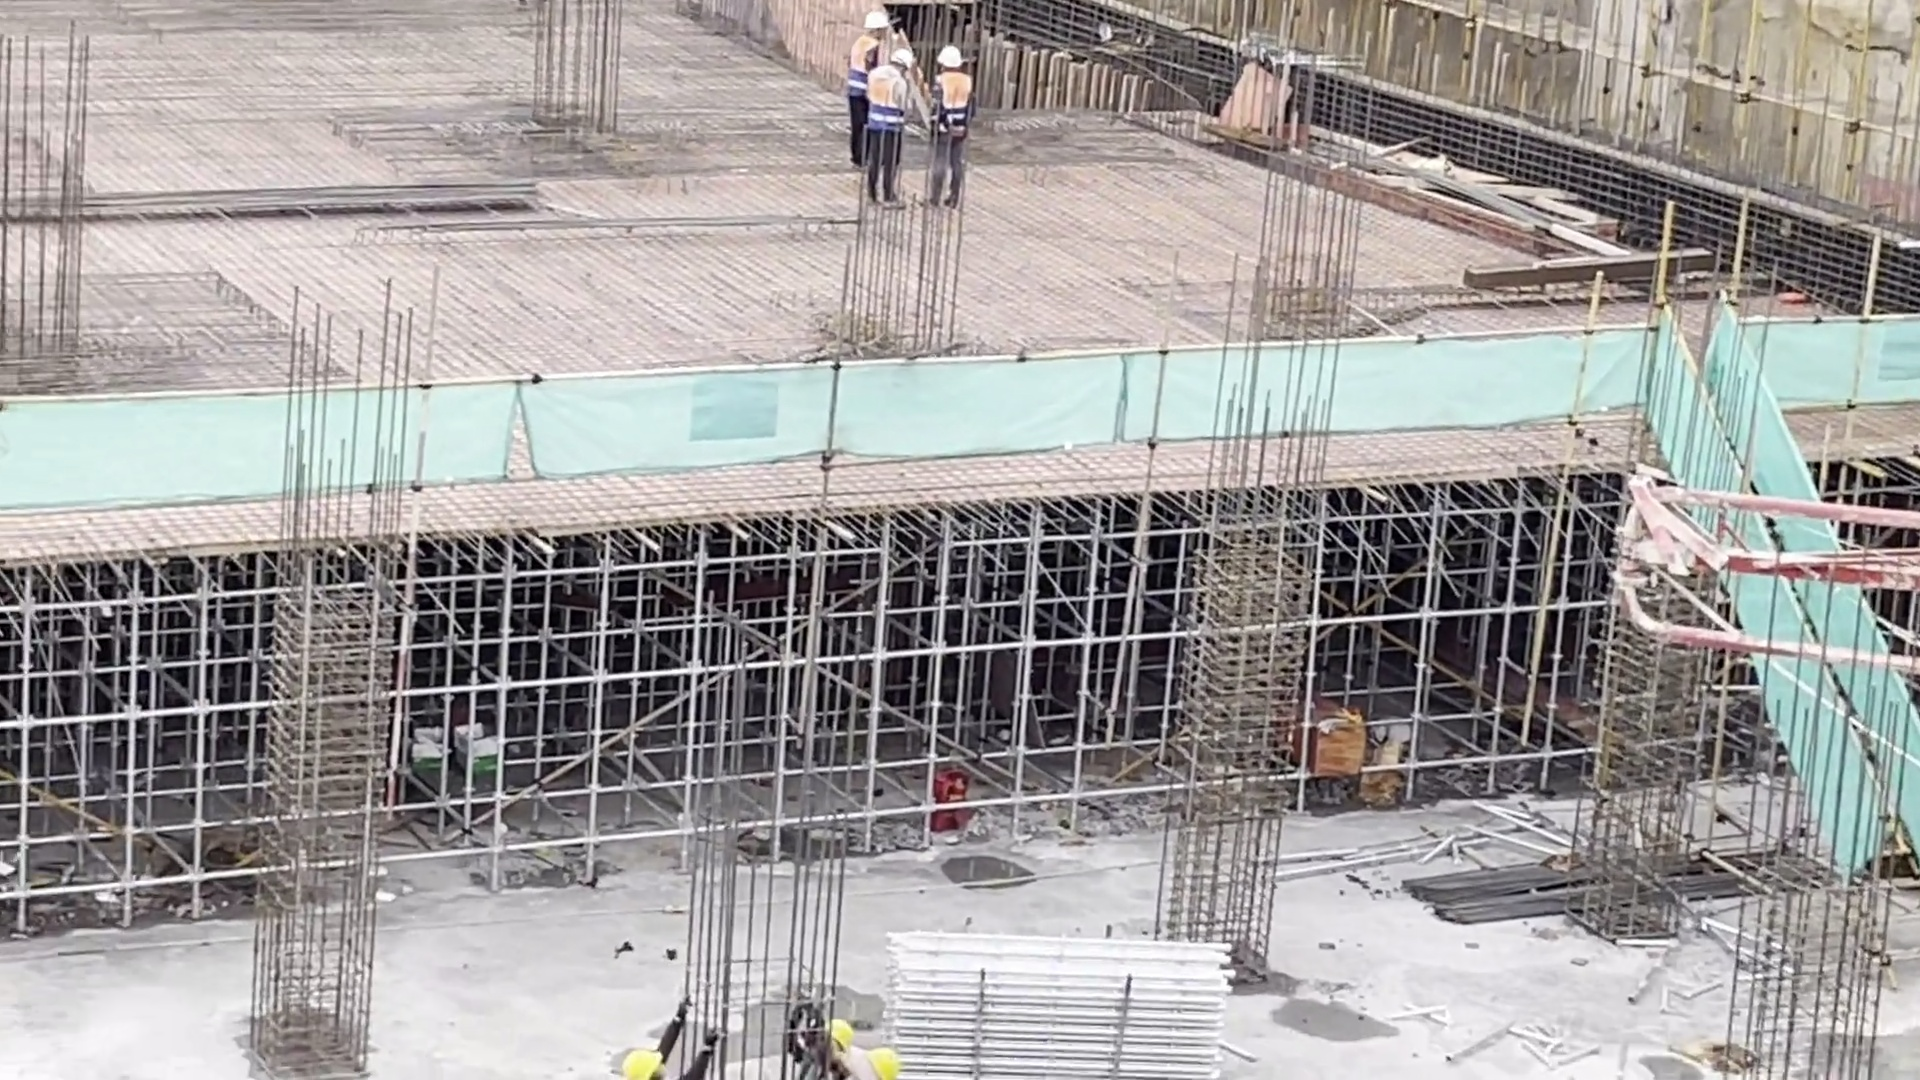helmet: (888, 50, 915, 70), (937, 45, 960, 68), (862, 13, 887, 30)
person: (863, 49, 915, 208), (606, 1005, 711, 1080), (928, 35, 970, 211), (840, 12, 888, 146), (784, 1008, 851, 1069), (822, 1037, 901, 1080)
vest: (933, 69, 966, 135), (873, 63, 904, 131), (850, 32, 879, 89)
